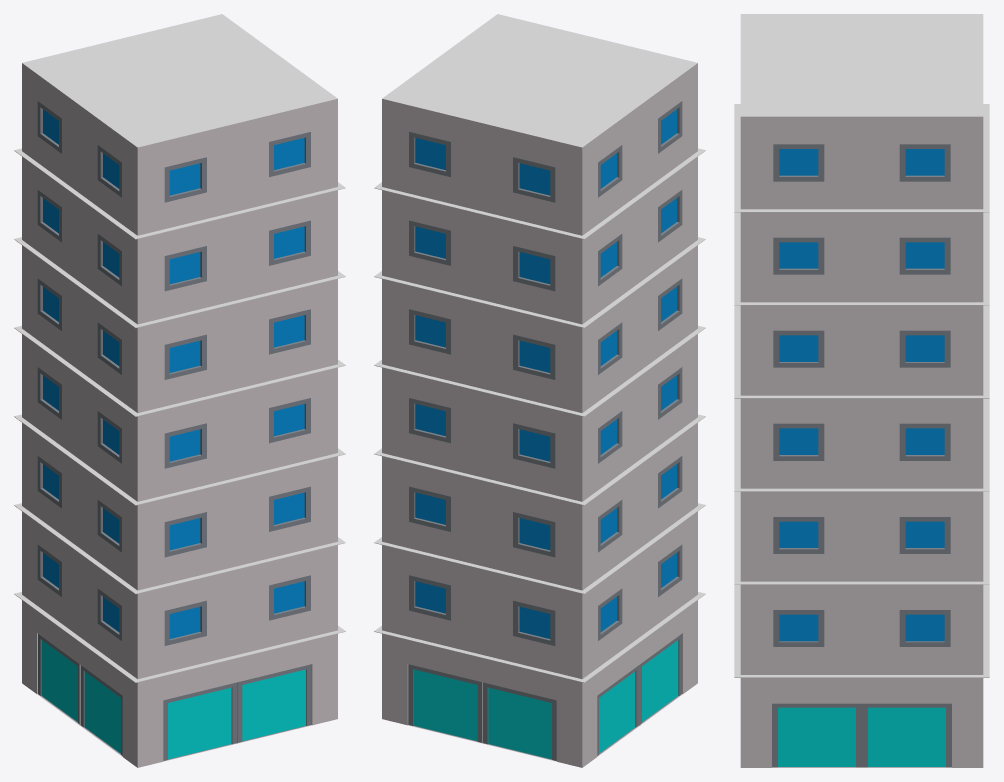
File: building3.fbx
3 views of the same model, side by side, from view 1: azimuth 30°, elevation 25°; view 2: azimuth 150°, elevation 25°; view 3: azimuth 270°, elevation 25° (orthographic). The views are drawn at different scales.
Visible parts, largest first — view 1: building_001; view 2: building_001; view 3: building_001.
Part boxes in pixels (bbox=[...]): building_001: bbox=[14, 14, 345, 767]; building_001: bbox=[374, 14, 705, 767]; building_001: bbox=[734, 14, 989, 767].
Size of the model in its own units: 5.4 by 15.2 by 5.4.
